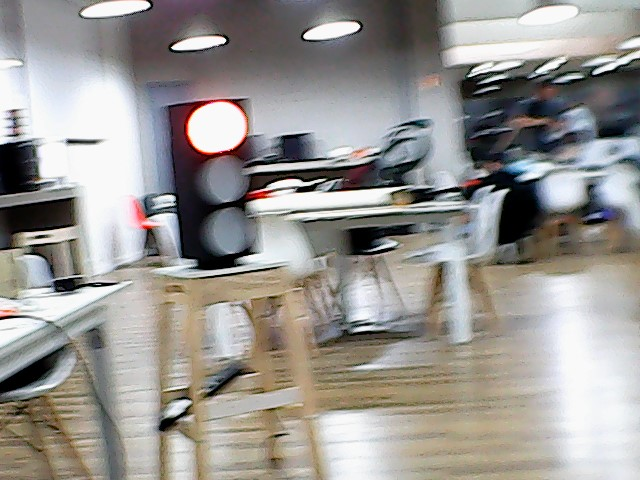vermelho: (165, 96, 268, 261)
